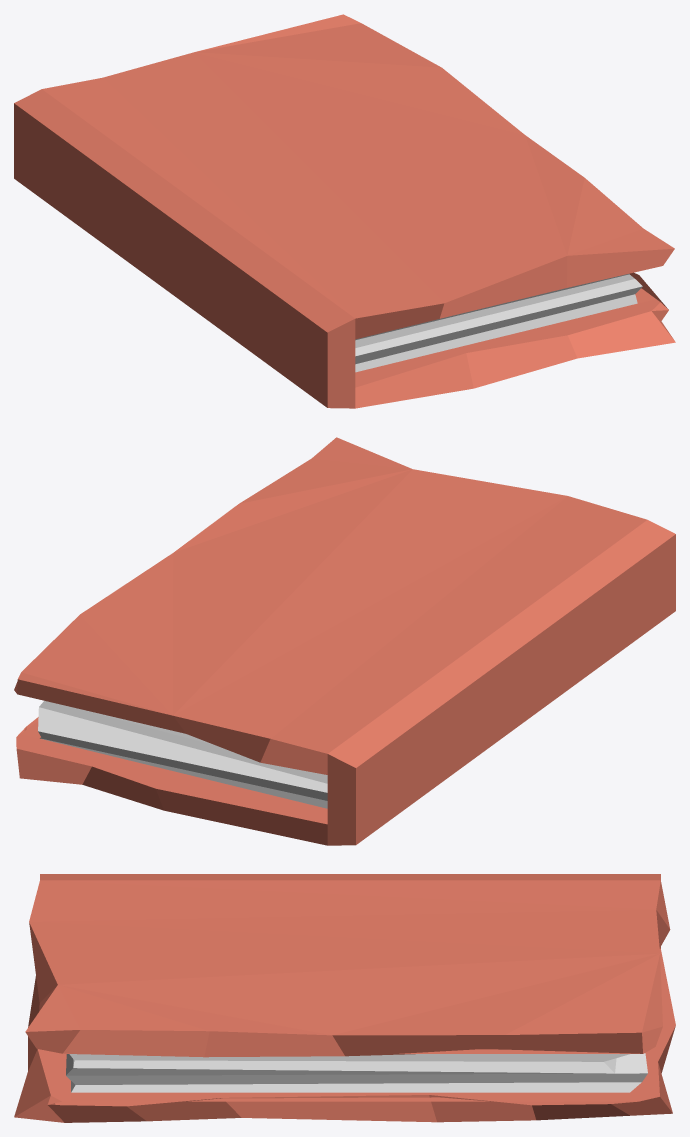
Rendered from SM_Book.fbx.
3 renders of one model, top to bottom at view 1: azimuth 30°, elevation 25°; view 2: azimuth 150°, elevation 25°; view 3: azimuth 270°, elevation 25°, orthographic. The views are drawn at different scales.
Visible parts, largest first — view 1: Book; view 2: Book; view 3: Book.
Part boxes in pixels (left/top/right/bottom): Book: left=14, top=14, right=675, bottom=408; Book: left=14, top=437, right=675, bottom=845; Book: left=14, top=874, right=675, bottom=1122.
Size of the model in its own units: 131 by 33.56 by 213.
